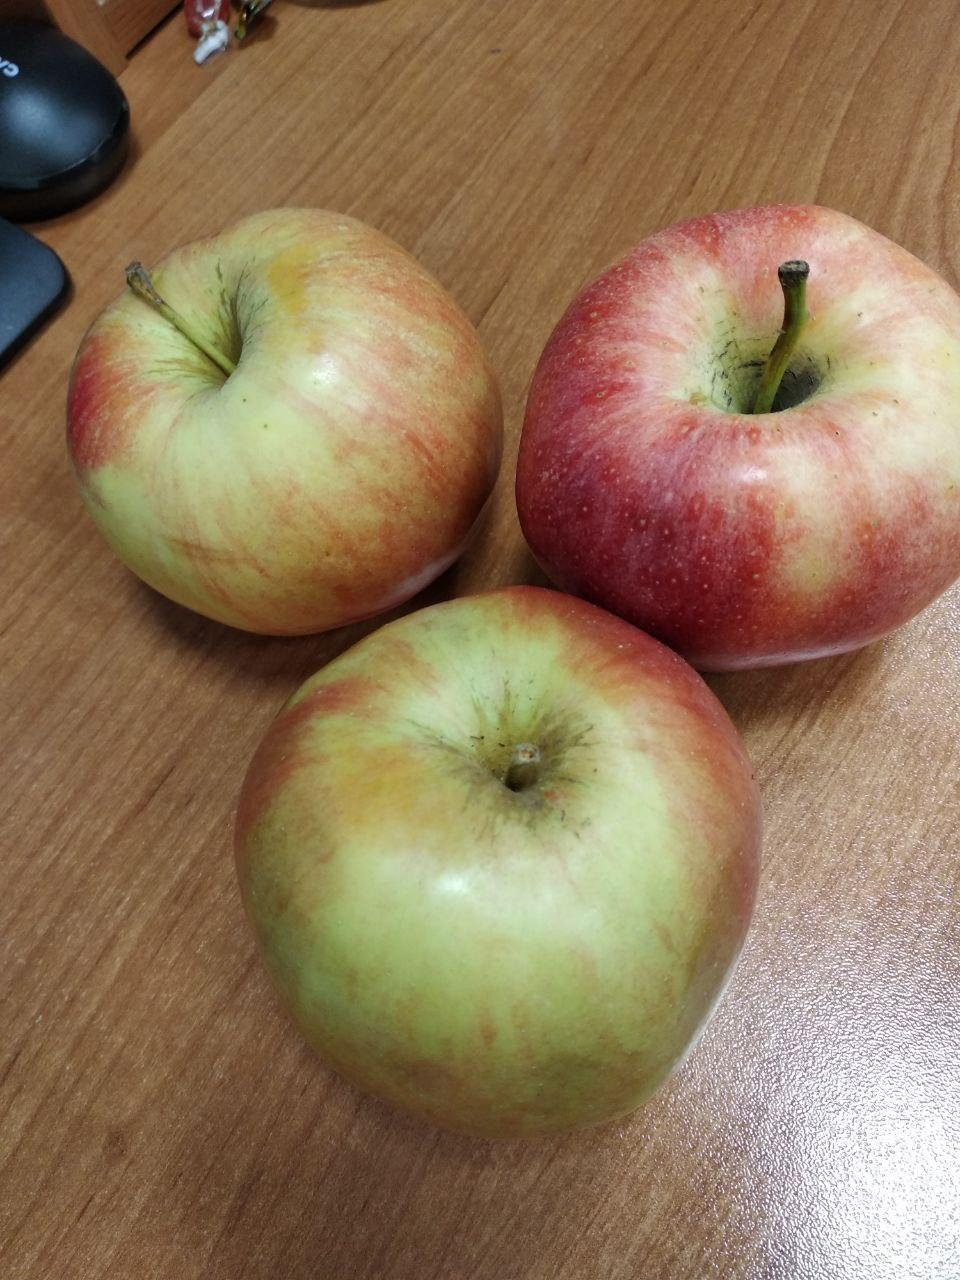Apple: (240, 593, 766, 1136), (517, 200, 958, 670), (52, 205, 486, 623)
